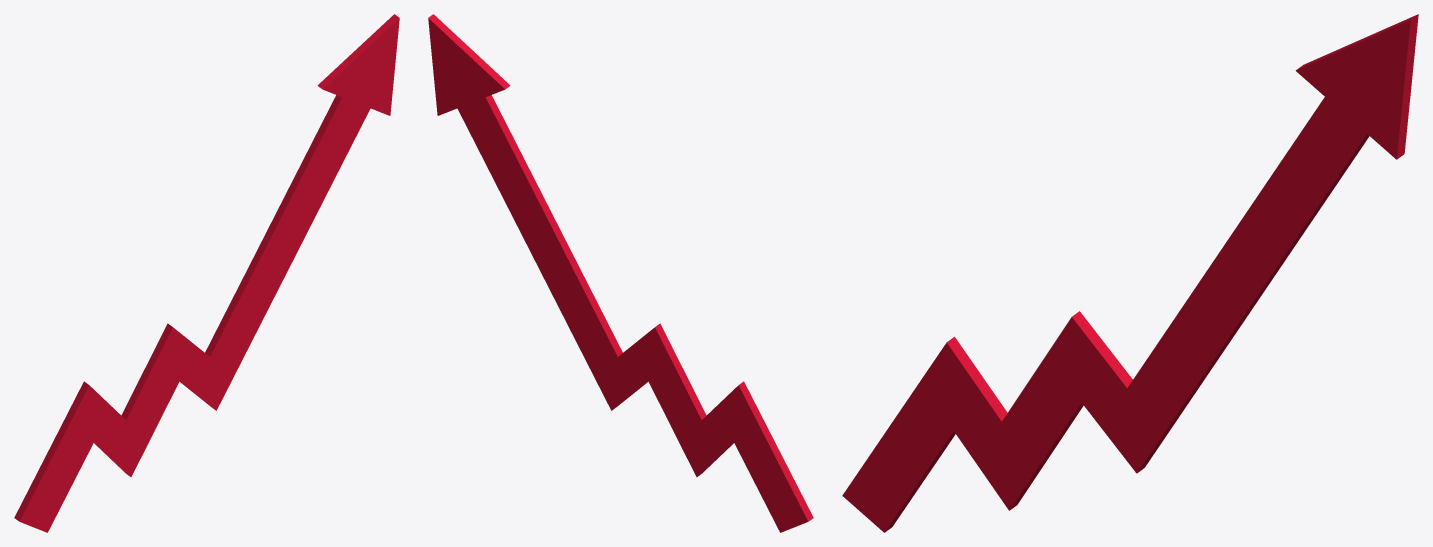
File: growth_arrow_3d.fbx
3 views of the same model, side by side, from view 1: azimuth 30°, elevation 25°; view 2: azimuth 150°, elevation 25°; view 3: azimuth 330°, elevation 25° (orthographic). The views are drawn at different scales.
Visible parts, largest first — view 1: GrowthArrow; view 2: GrowthArrow; view 3: GrowthArrow.
Boxes of the visible parts, x1=… form: GrowthArrow: x1=14, y1=14, x2=399, y2=532; GrowthArrow: x1=428, y1=14, x2=813, y2=532; GrowthArrow: x1=842, y1=14, x2=1418, y2=532.
Size of the model in its own units: 14.39 by 15.52 by 0.35.
